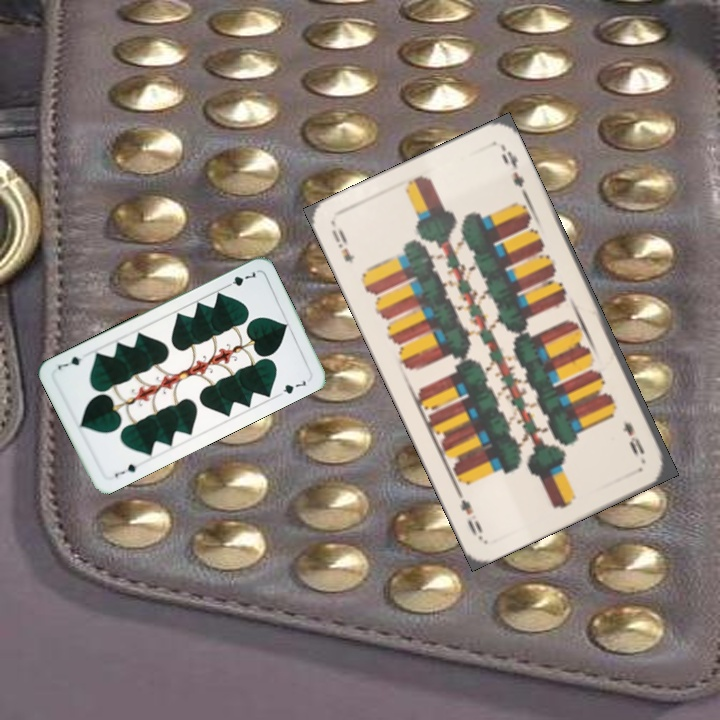E9: (327, 224, 358, 267), (619, 417, 647, 460)
G7: (221, 267, 260, 291), (111, 458, 144, 480)
